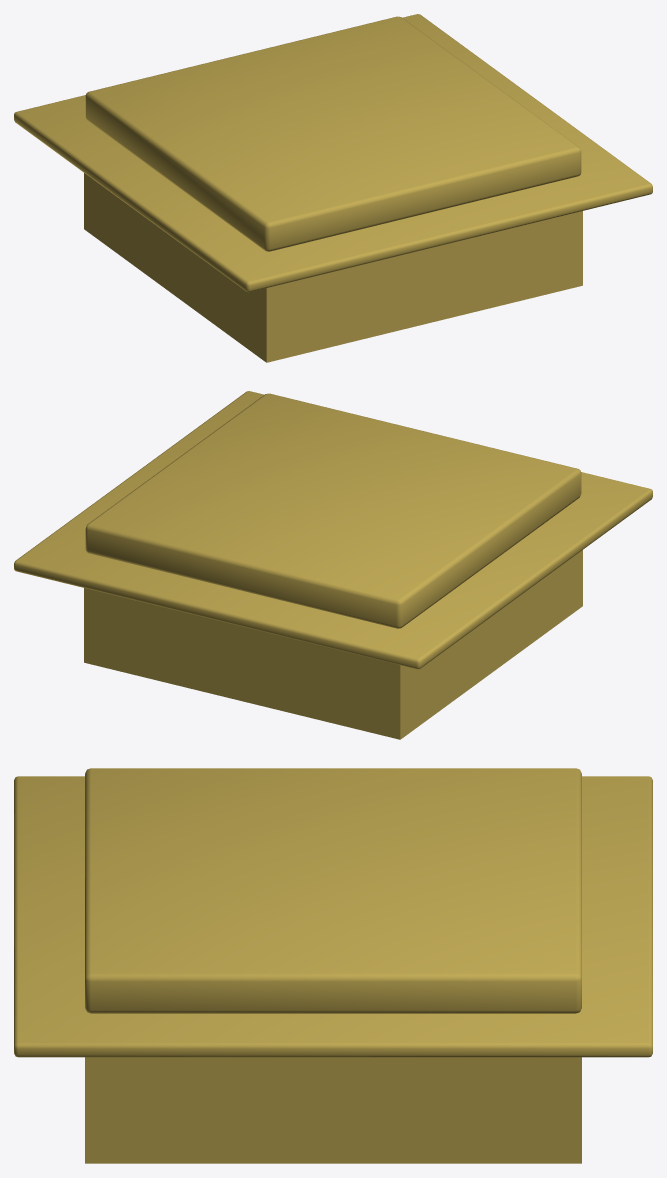
File: FM_H_Doll_Arch_Border_01_001.fbx
The picture shows the model from 3 angles, top to bottom: view 1: azimuth 30°, elevation 25°; view 2: azimuth 150°, elevation 25°; view 3: azimuth 270°, elevation 25°; orthographic projection. The views are drawn at different scales.
Parts seen in each view (by area): view 1: H_Doll_Arch_Border_01_001; view 2: H_Doll_Arch_Border_01_001; view 3: H_Doll_Arch_Border_01_001.
Boxes of the visible parts, <box> form: H_Doll_Arch_Border_01_001: <box>14,14,652,362</box>; H_Doll_Arch_Border_01_001: <box>14,391,652,739</box>; H_Doll_Arch_Border_01_001: <box>14,768,652,1163</box>.
Bounding box in the file's own units: 5.14 × 1.66 × 5.14.
